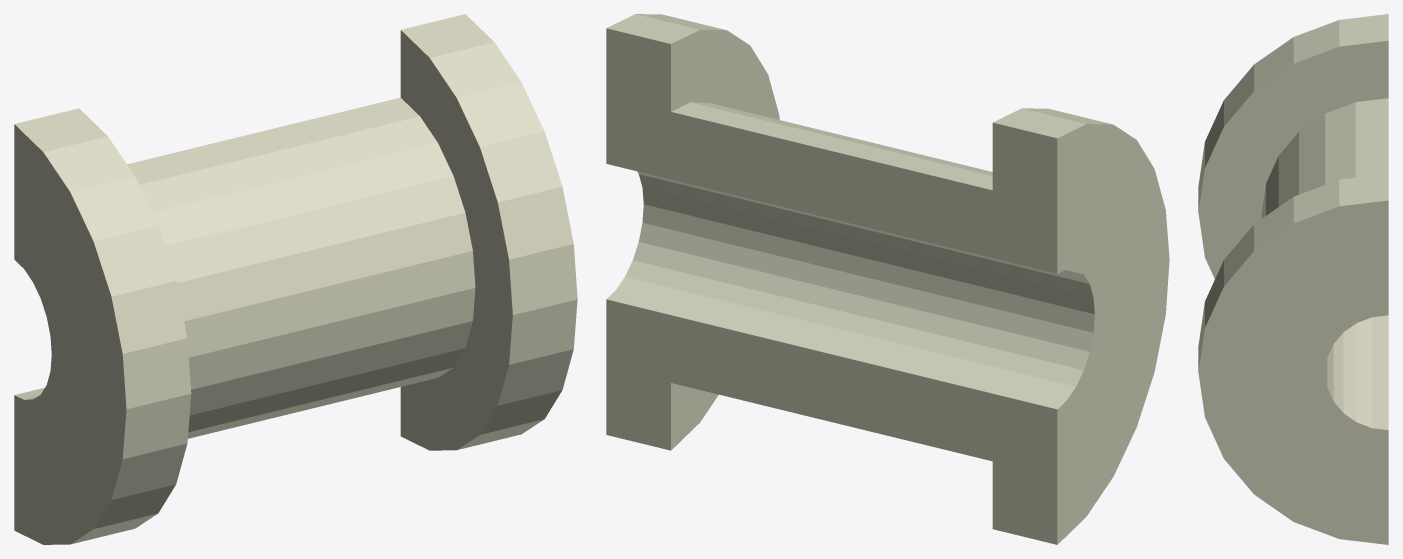
File: section_150.obj
3 views of the same model, side by side, from view 1: azimuth 30°, elevation 25°; view 2: azimuth 150°, elevation 25°; view 3: azimuth 270°, elevation 25° (orthographic). The views are drawn at different scales.
Bounding box in the file's own units: 6.97 × 6 × 3.
